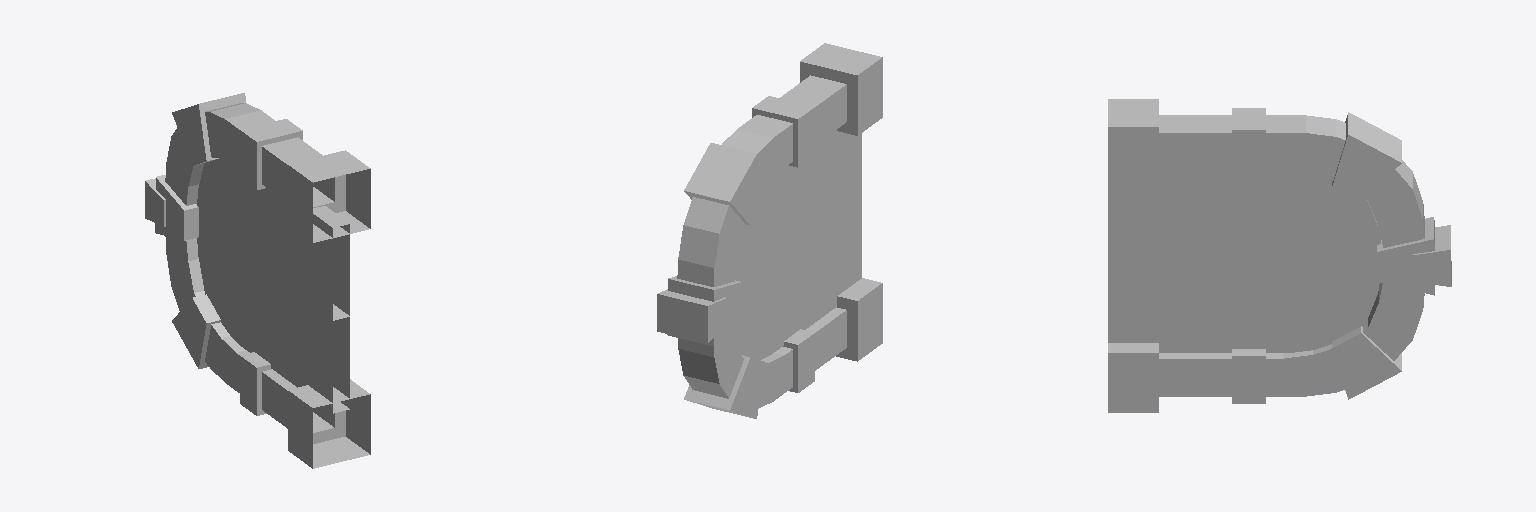
Rendered from door.obj.
The picture shows the model from 3 angles: view 1: azimuth 30°, elevation 25°; view 2: azimuth 150°, elevation 25°; view 3: azimuth 270°, elevation 25°; orthographic projection.
Visible parts, largest first — view 1: polySurface8, polySurface5; view 2: polySurface8, polySurface5; view 3: polySurface5, polySurface8.
Part boxes in pixels (x1,y1,x2,y2): polySurface8: (145,93,370,468); polySurface5: (197,158,349,413); polySurface8: (657,43,882,418); polySurface5: (735,130,861,359); polySurface5: (1108,171,1380,352); polySurface8: (1108,99,1451,412).
Bounding box in the file's own units: 0.4165 × 1.97 × 2.14.